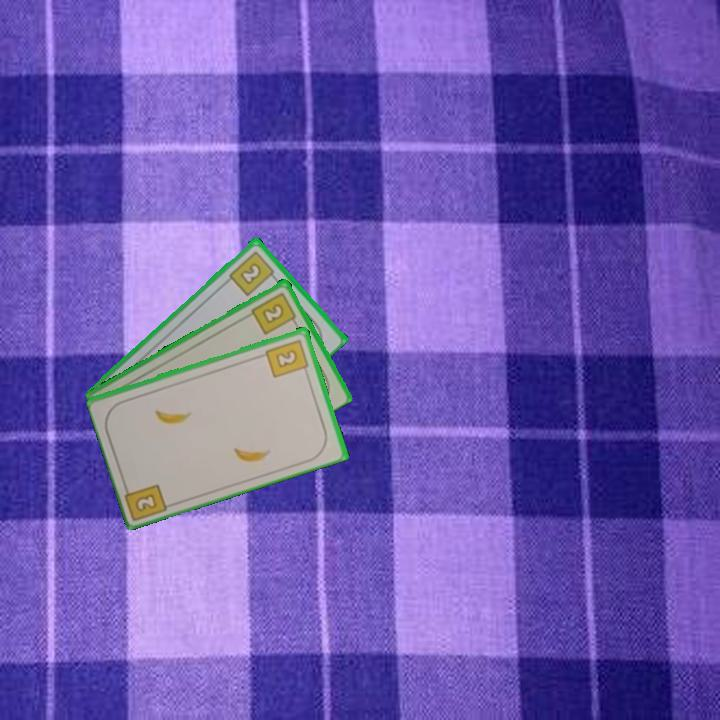2b: (225, 247, 280, 298), (248, 288, 300, 337), (263, 336, 312, 380), (122, 479, 172, 521)
